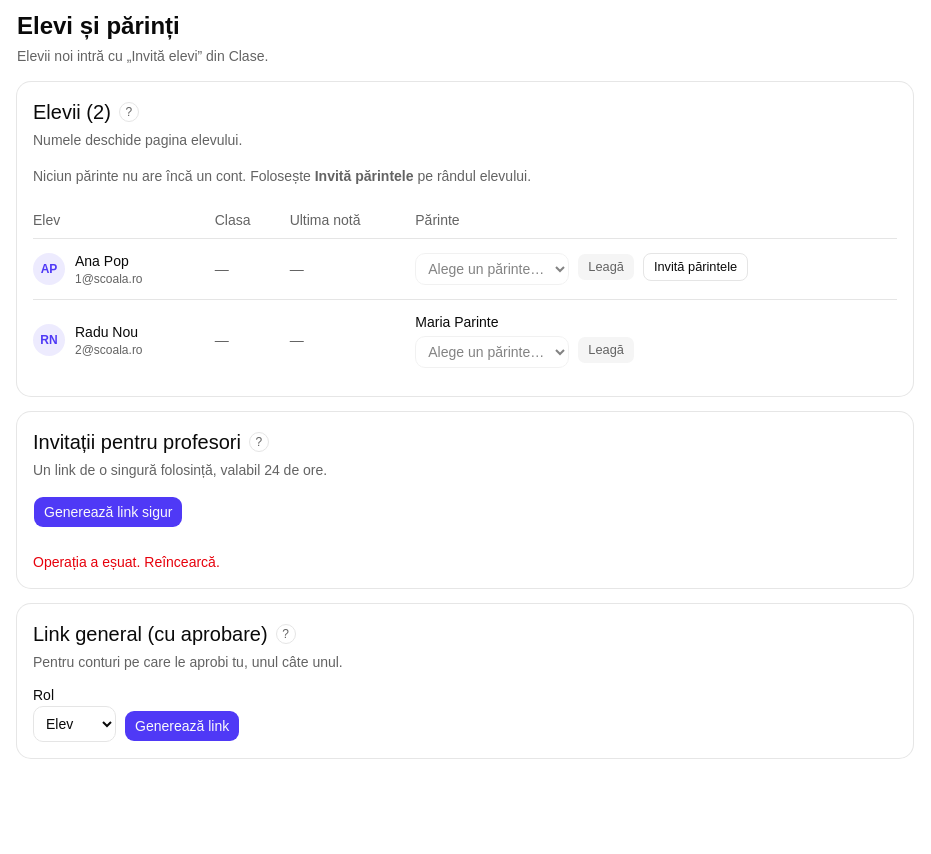
Scenario: AdminStudentsPage › shows the student's single-use link to copy
The width and height of the screenshot is (931, 854).
What coordinates should you click on to do the following:
click the button with test id "parent-invite-1"
I would click on:
 (696, 267)
Its box is [643,253,748,281].
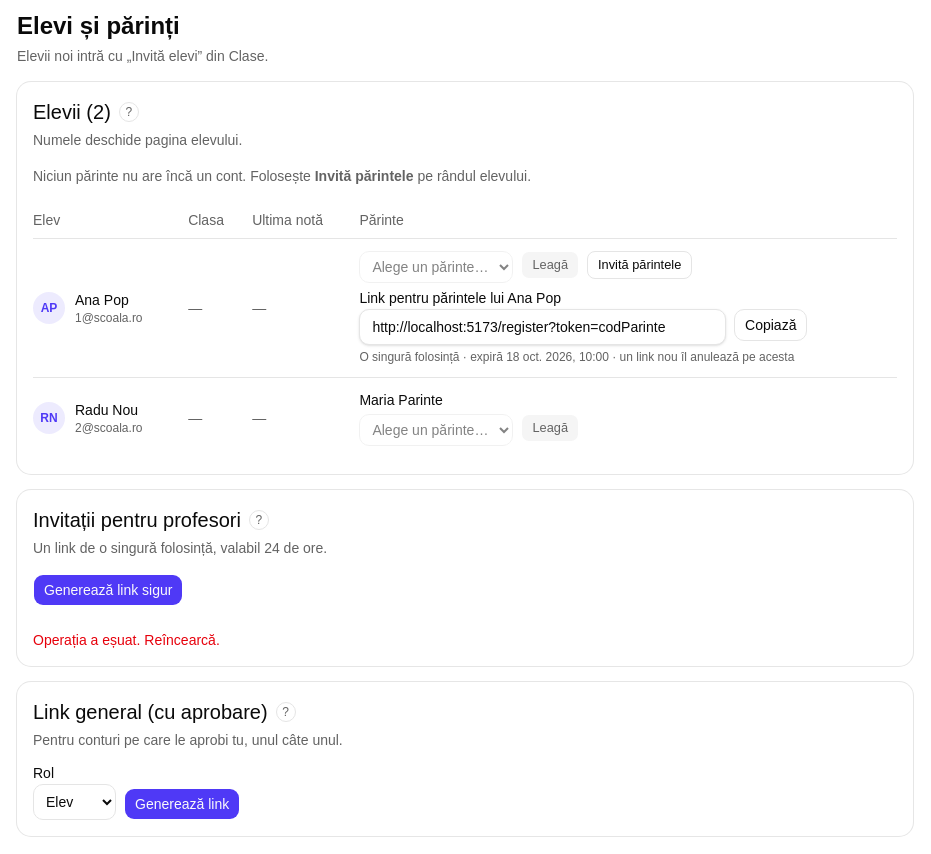
Result: the field labelled "Link pentru părintele lui Ana Pop" holds "http://localhost:5173/register?token=codParinte" at [359,309,726,345]
Result: the text "O singură folosință" is shown at [359,350,506,364]
